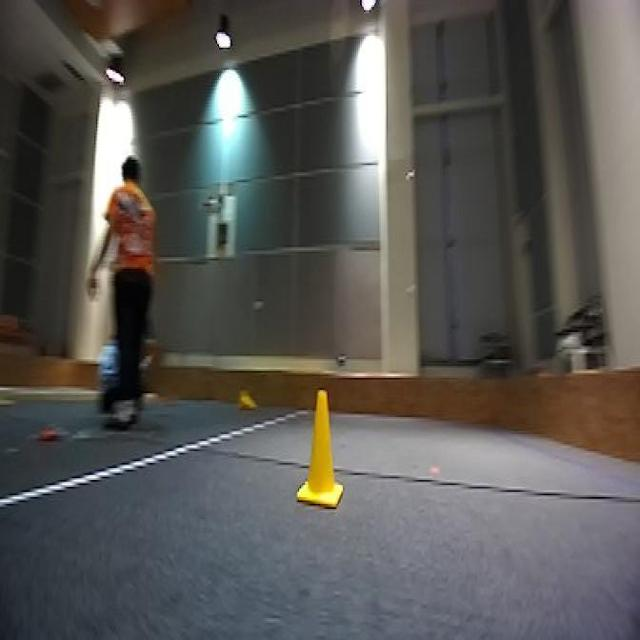frc_cone: (299, 396, 347, 516), (230, 385, 264, 415)
